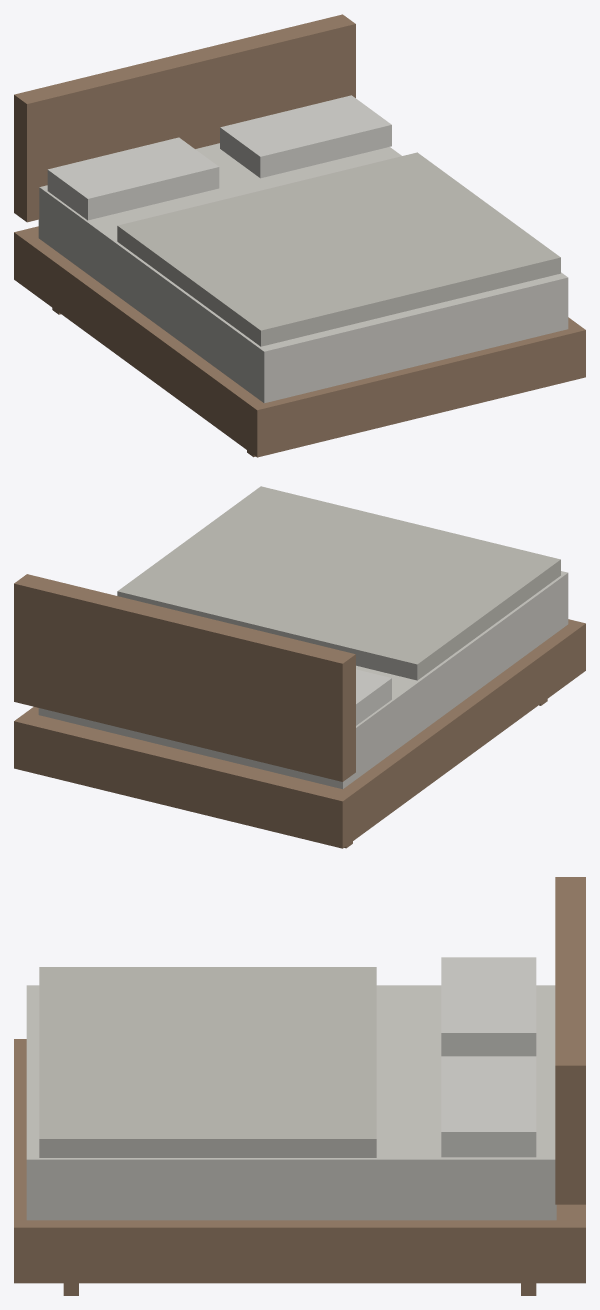
The model's file is bed.glb.
3 renders of one model, top to bottom at view 1: azimuth 30°, elevation 25°; view 2: azimuth 150°, elevation 25°; view 3: azimuth 270°, elevation 25°, orthographic. The views are drawn at different scales.
Visible parts, largest first — view 1: bed_duvet, bed_mattress, bed_frame, bed_headboard, bed_pillow_0, bed_pillow_1; view 2: bed_duvet, bed_headboard, bed_frame, bed_mattress, bed_pillow_0; view 3: bed_duvet, bed_mattress, bed_frame, bed_headboard, bed_pillow_1, bed_pillow_0.
Boxes of the visible parts, x1,y1,x2,y2 form: bed_duvet: (117,152,560,346); bed_mattress: (38,143,568,403); bed_frame: (14,226,585,457); bed_headboard: (14,14,355,222); bed_pillow_0: (47,137,219,220); bed_pillow_1: (220,95,391,178); bed_duvet: (117,486,560,680); bed_headboard: (14,574,355,781); bed_frame: (14,619,585,848); bed_mattress: (38,571,568,789); bed_pillow_0: (356,669,391,725); bed_duvet: (39,967,376,1157); bed_mattress: (26,985,556,1220); bed_frame: (14,1039,585,1283); bed_headboard: (555,877,585,1204); bed_pillow_1: (441,1056,536,1157); bed_pillow_0: (441,957,536,1056).
Bounding box in the file's own units: 1.6 × 0.95 × 2.05.
